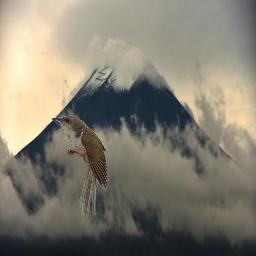Cuckoo: (51, 115, 107, 217)
